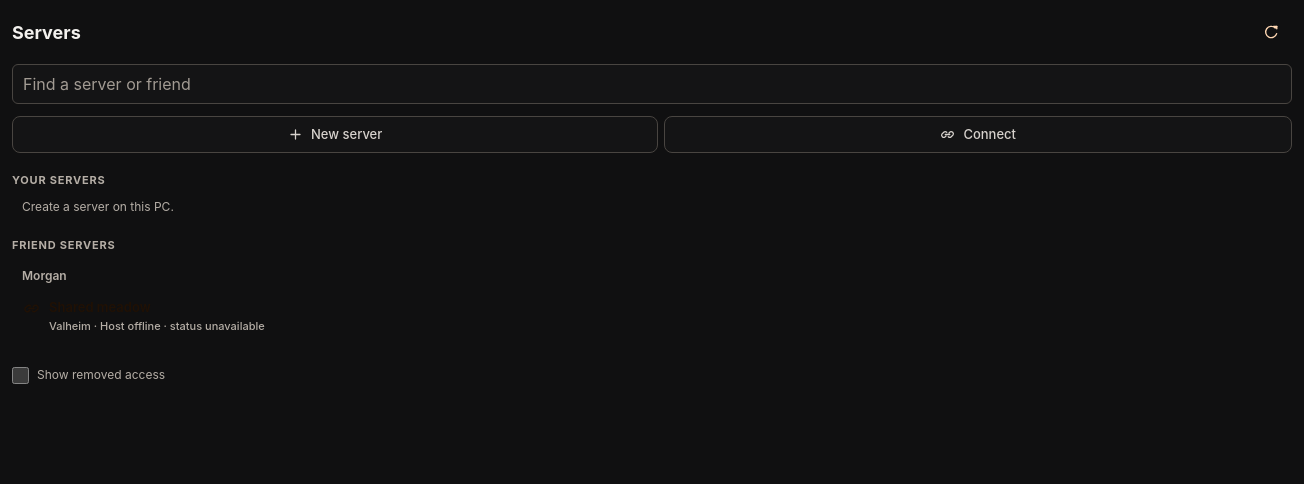
one grouped server list › hides revoked saved Hosts until deliberate reveal and leaves offline counts unavailable
Check: the button with aria-label "Open Shared meadow on Morgan" shows "Host offline · status unavailable", box [12, 287, 1292, 345]
Check: the text "Removed owner" is not shown
Click the checkbox labelled "Show removed access": x=20, y=375 [12, 367, 29, 384]
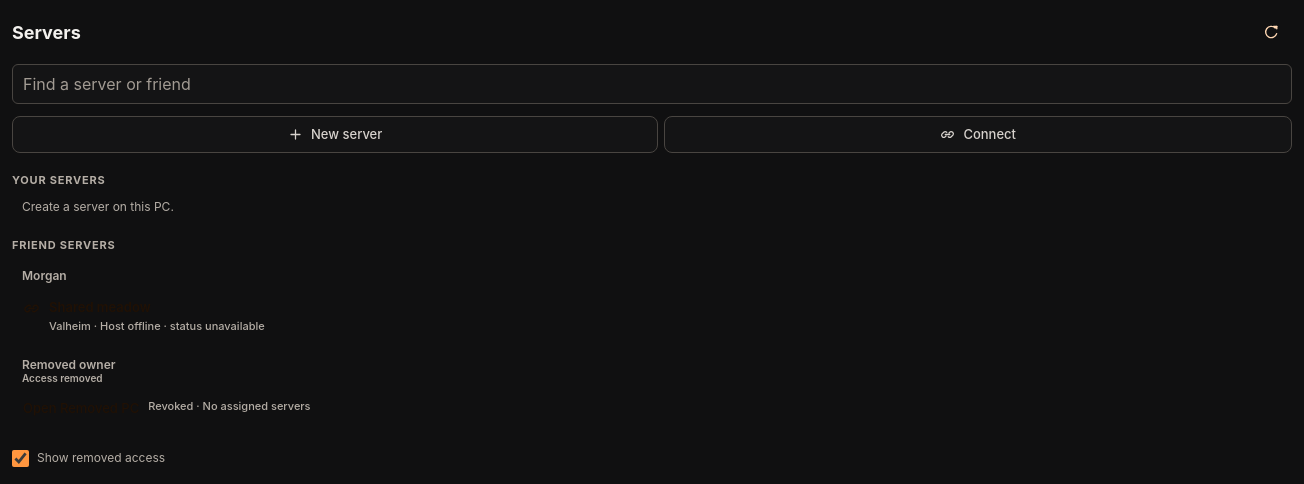
Check: the button "Open Removed PC Revoked · No assigned servers" is shown, box [12, 388, 1292, 428]
